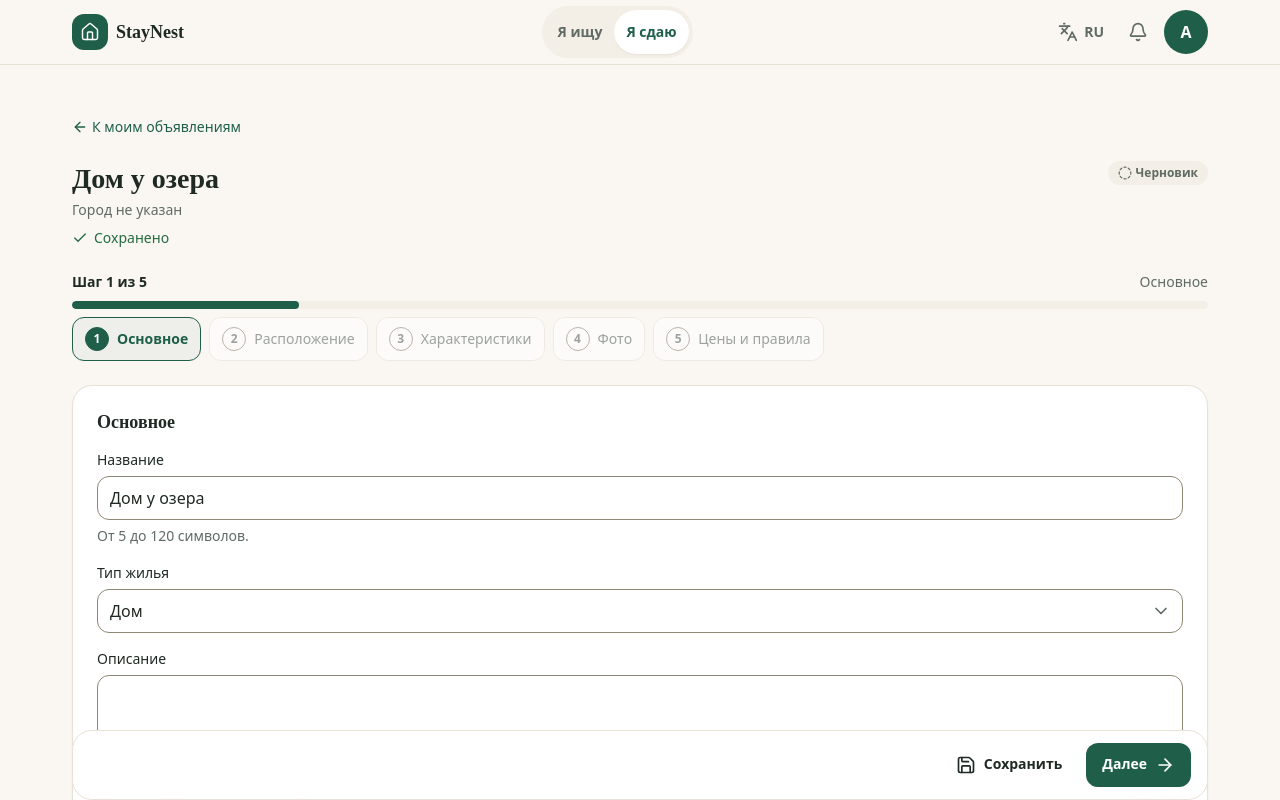
App › сохраняет форму и отправляет PATCH с введёнными полями
Replace the text in the field labelled "Название" with "Дом у озера 2" at (640, 498), box x1=97 y1=476 x2=1183 y2=520
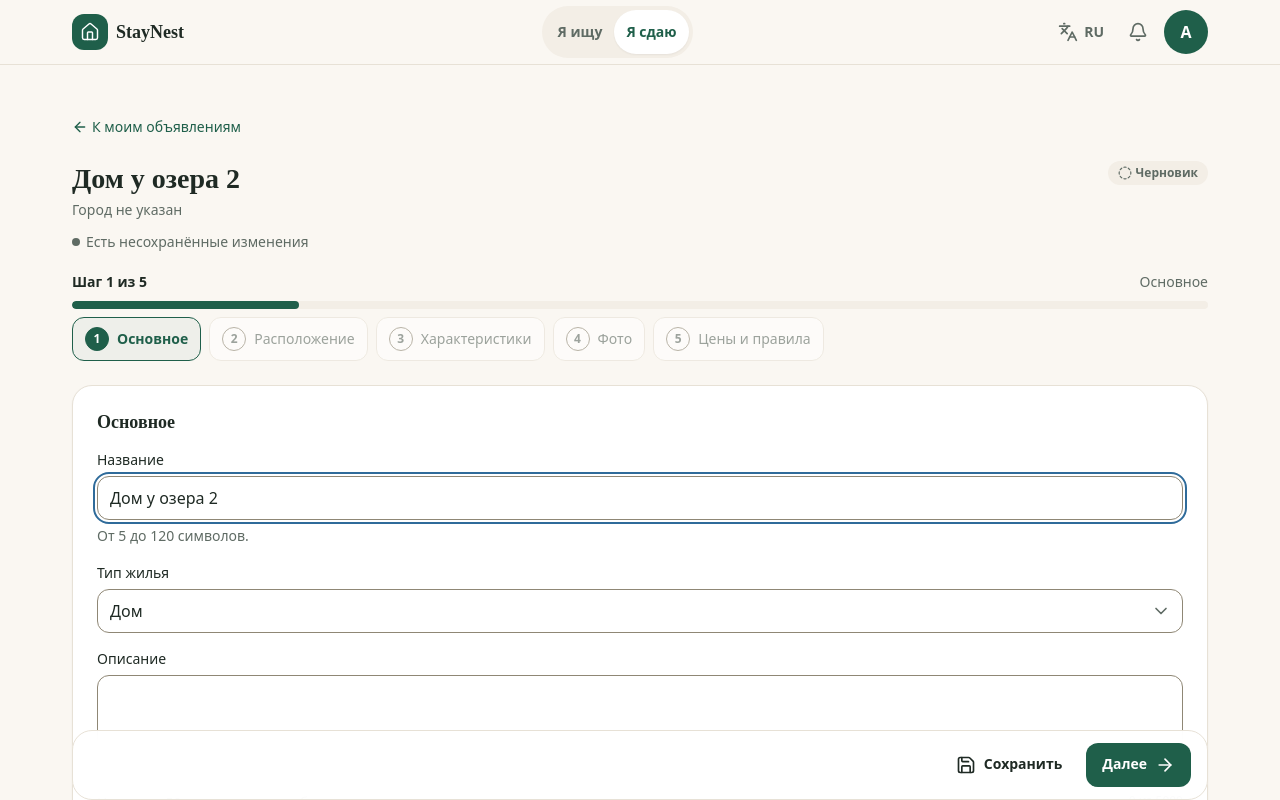
Click the button "Сохранить".
click(1009, 765)  # box x1=940 y1=743 x2=1078 y2=787
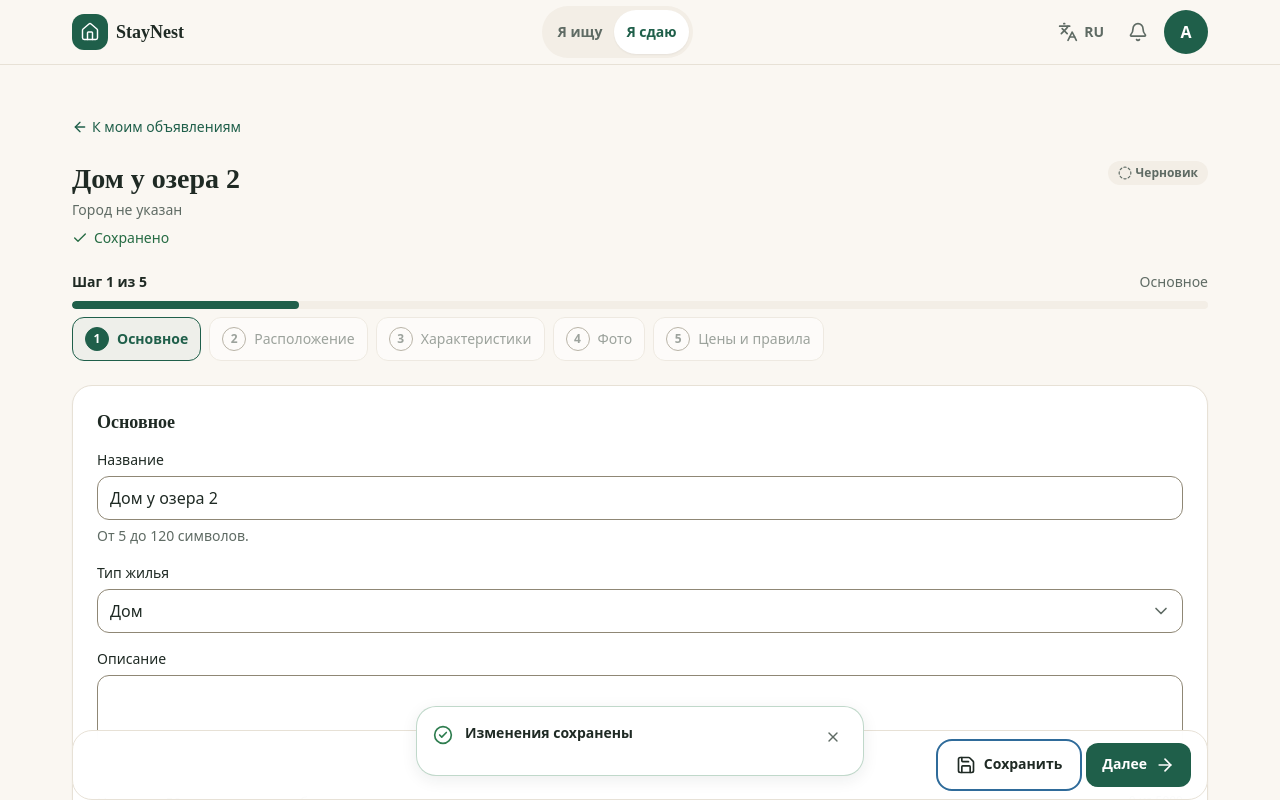
Result: the text "Изменения сохранены" is shown at x1=465 y1=723 x2=633 y2=742
